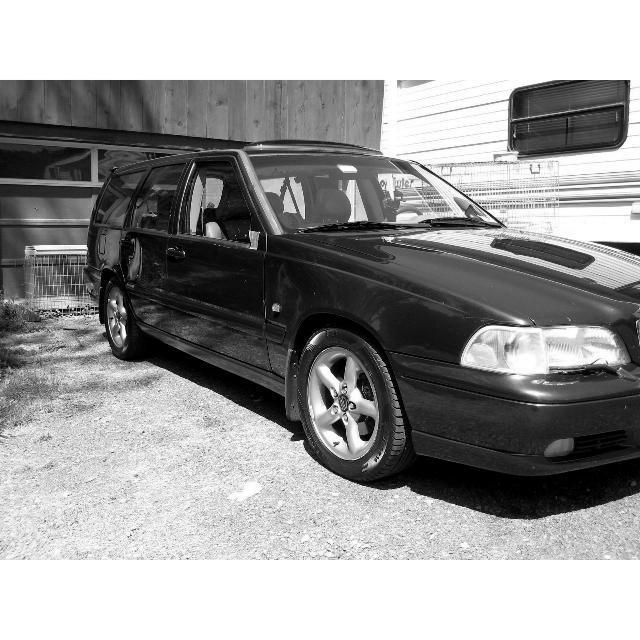fender-dent: (257, 253, 445, 375)
